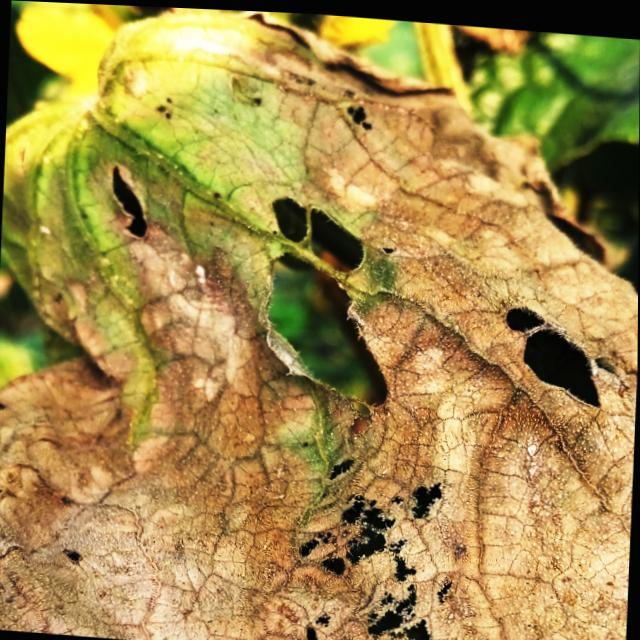Anthracnose: (254, 184, 403, 414), (293, 440, 462, 640), (499, 296, 610, 413), (102, 153, 158, 246)
